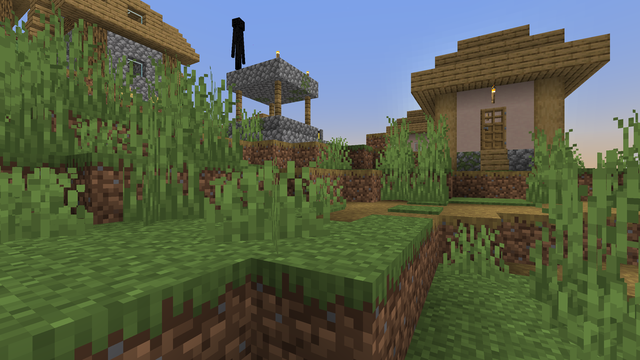endermens: (230, 14, 245, 69)
